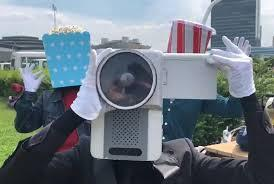no more kid: (87, 43, 223, 159)
